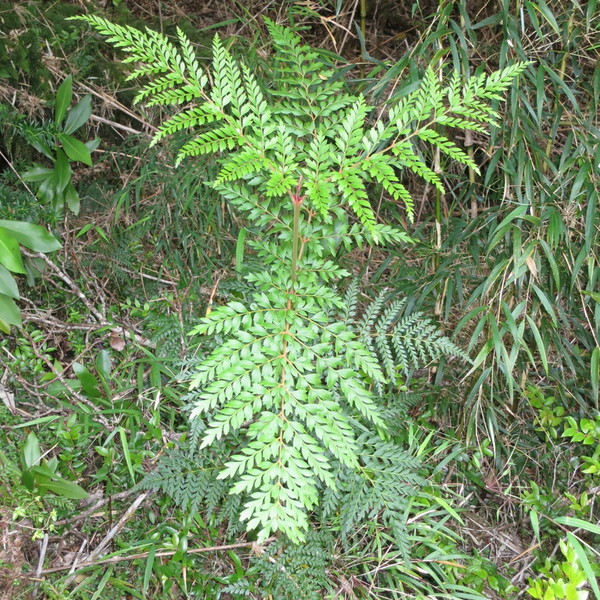obstacle: (108, 12, 498, 527), (466, 38, 571, 447)
